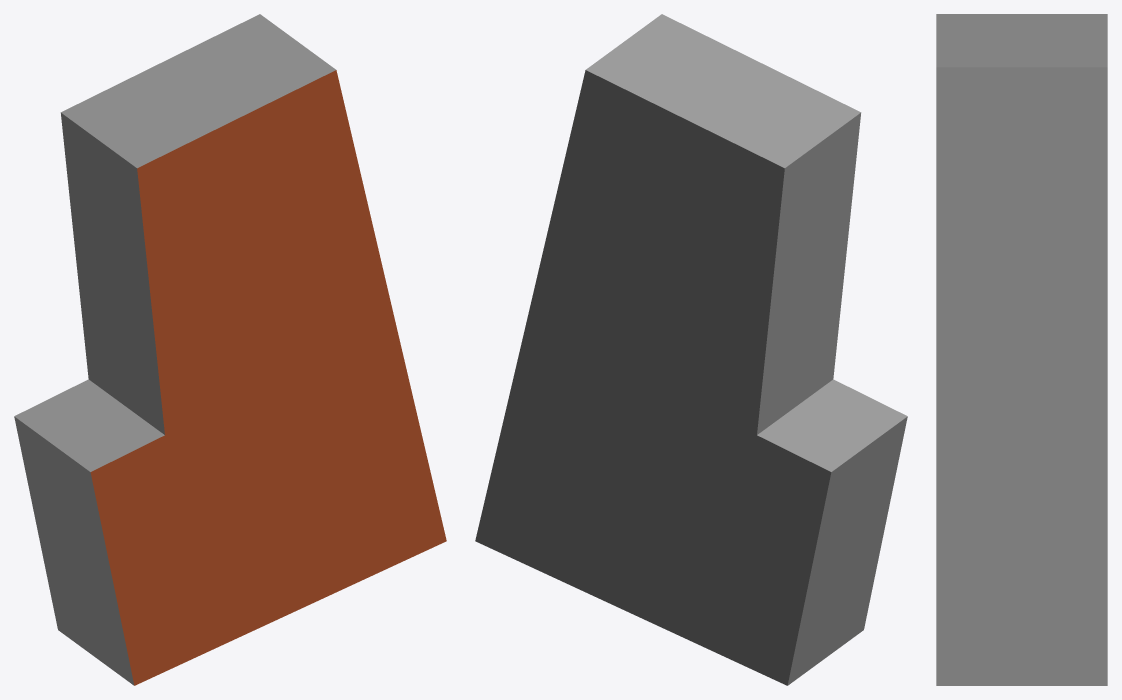
The model's file is construction_2199_assumed_A_Casa_h6m.obj.
The picture shows the model from 3 angles, left to right: view 1: azimuth 30°, elevation 25°; view 2: azimuth 150°, elevation 25°; view 3: azimuth 270°, elevation 25°; orthographic projection. The views are drawn at different scales.
Visible parts, largest first — view 1: construction_2199_assumed_A_Casa; view 2: construction_2199_assumed_A_Casa; view 3: construction_2199_assumed_A_Casa.
Part boxes in pixels (x1=…): construction_2199_assumed_A_Casa: x1=14, y1=14, x2=446, y2=685; construction_2199_assumed_A_Casa: x1=475, y1=14, x2=907, y2=685; construction_2199_assumed_A_Casa: x1=936, y1=14, x2=1107, y2=685.
Size of the model in its own units: 16.15 by 24.56 by 6.
